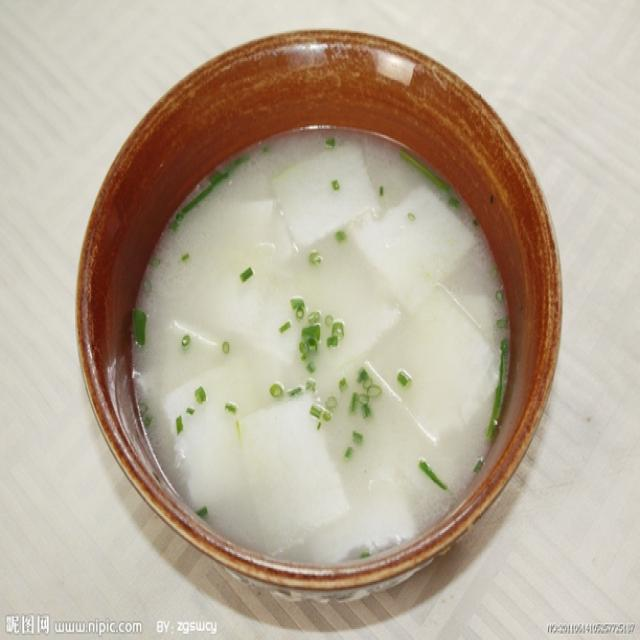汤锅炖物: (91, 85, 555, 594)
